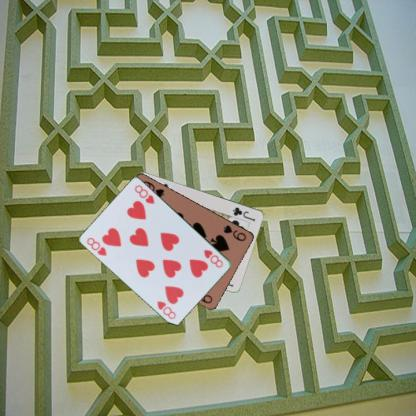8h: (84, 235, 108, 257), (202, 246, 224, 268)
9s: (221, 223, 248, 242)
Jc: (230, 204, 256, 223)
